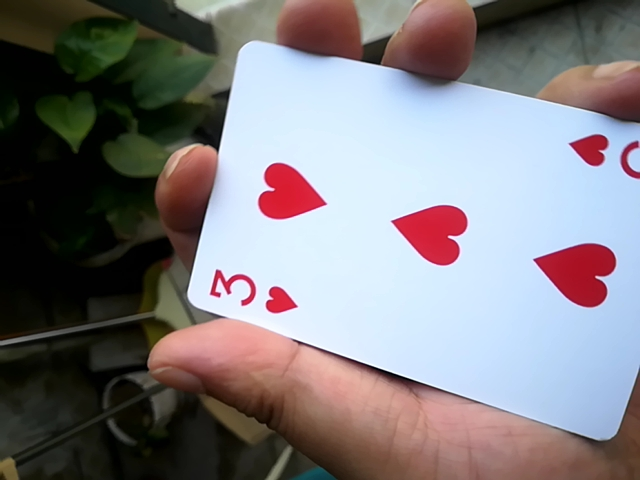hx 3: (180, 45, 640, 454)
